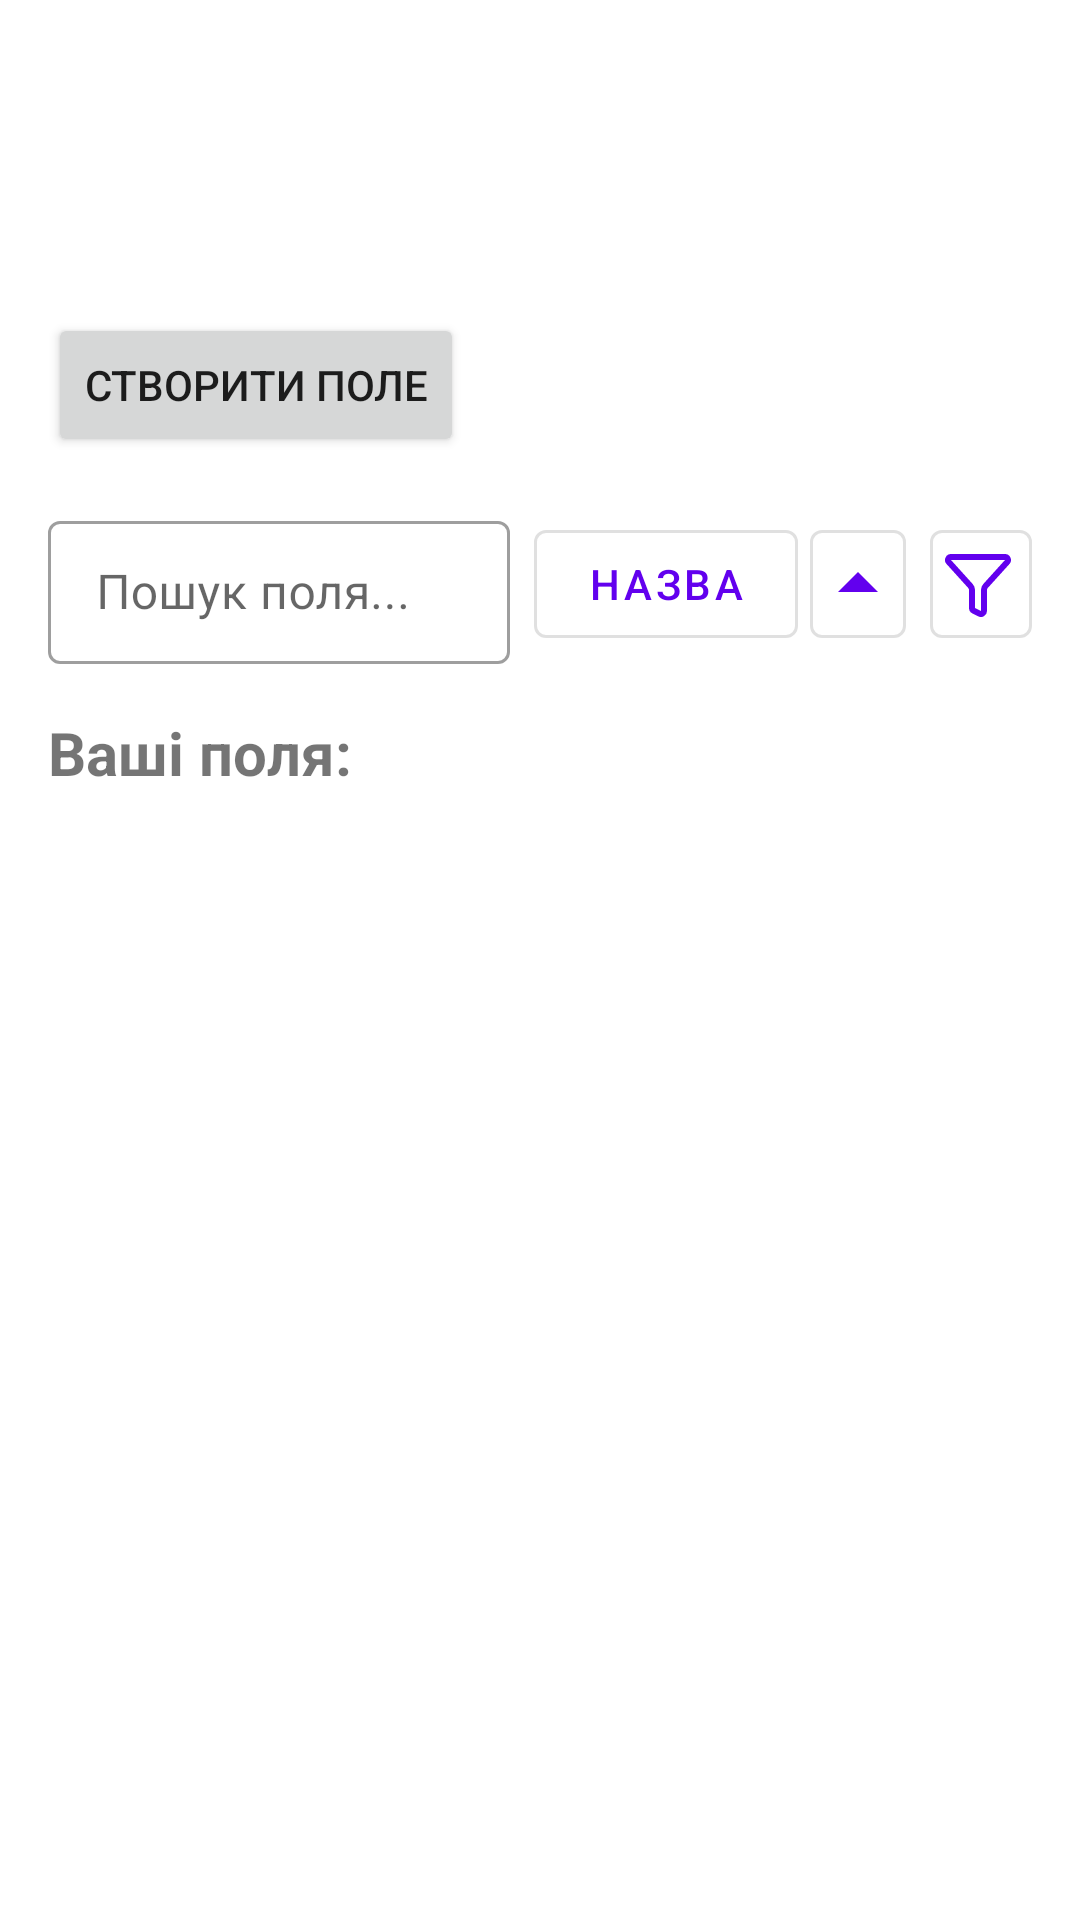

Named icons in this screenshot (1080 × 1920) and their bounding boxes, (x1=x1, y1=y1, x2=x2, y2=y2):
arrow up: (x1=810, y1=530, x2=906, y2=638)
filter: (x1=930, y1=530, x2=1032, y2=638)
